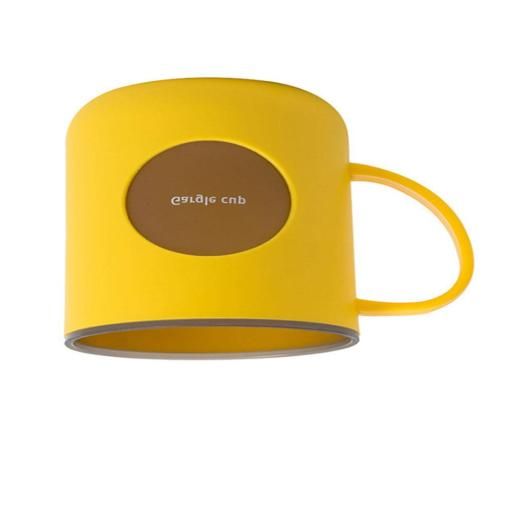cup: (66, 79, 472, 359)
